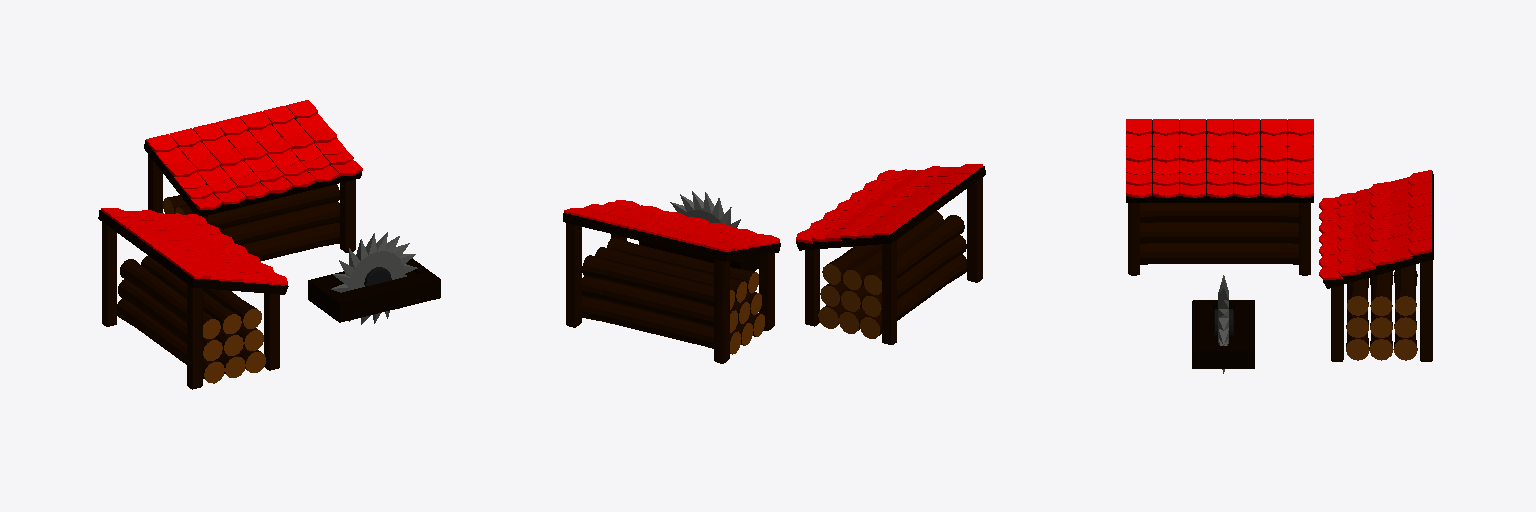
File: LumberMill_RedTeam.obj
3 views of the same model, side by side, from view 1: azimuth 30°, elevation 25°; view 2: azimuth 150°, elevation 25°; view 3: azimuth 270°, elevation 25° (orthographic).
Visible parts, largest first — view 1: LumberMill_RedTeam_Cube.001; view 2: LumberMill_RedTeam_Cube.001; view 3: LumberMill_RedTeam_Cube.001.
Boxes of the visible parts, <box> form: LumberMill_RedTeam_Cube.001: <box>98,100,440,389</box>; LumberMill_RedTeam_Cube.001: <box>563,164,985,363</box>; LumberMill_RedTeam_Cube.001: <box>1126,119,1433,373</box>.
Size of the model in its own units: 25.89 by 12.21 by 24.56.